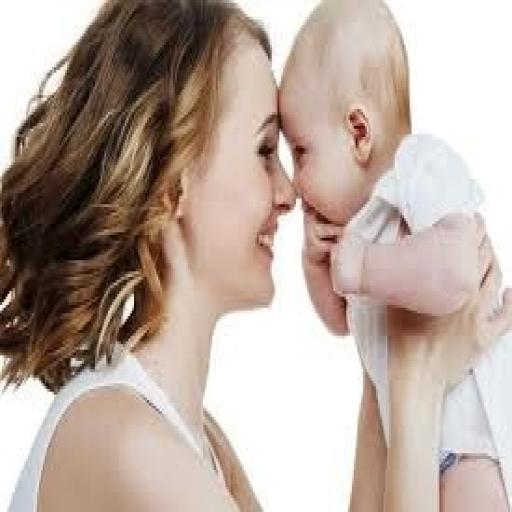laughing: (0, 0, 295, 509)
